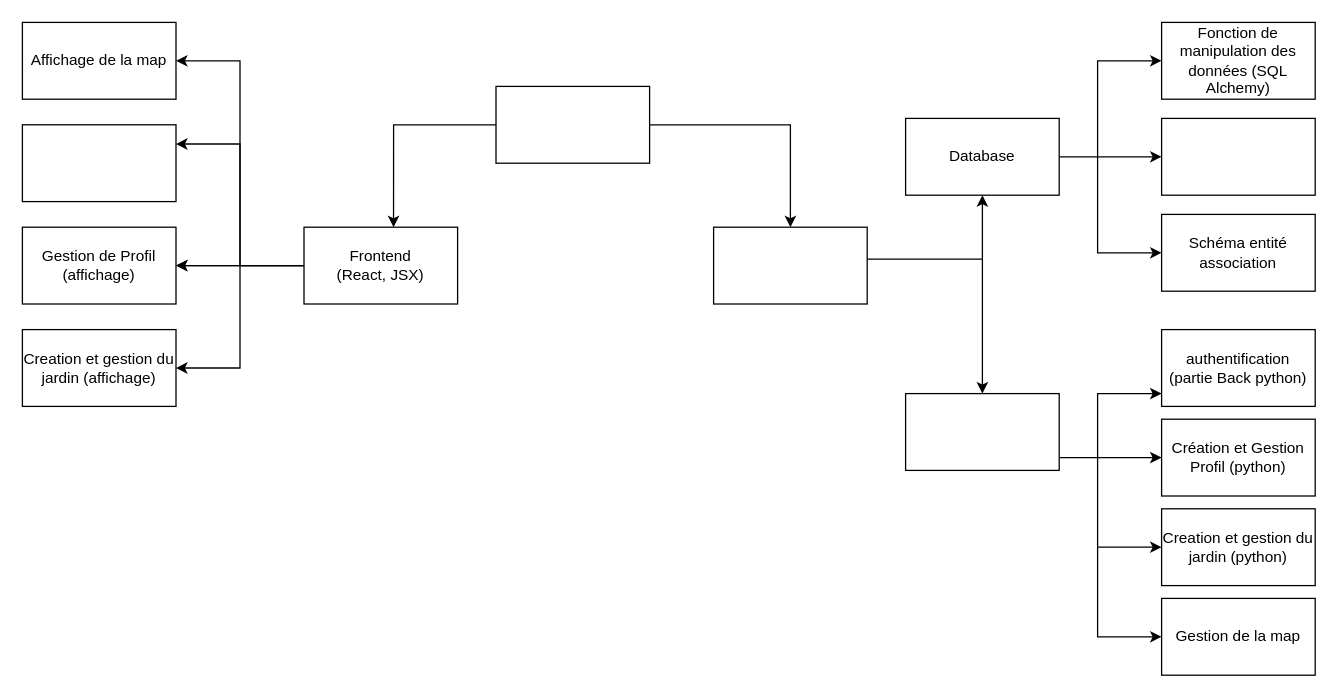
Image size: 1338x698. Some labels were removed from this diagram. The shapes that lost their labels are listed below. From the top down, each one's centre as x and y in pixels, then its label:
At point (572, 124): "Developpement de l'application".
At point (98, 163): "Authenfication (affichage)".
At point (1237, 156): "Creation de la base".
At point (789, 265): "Backend (python flask)".
At point (981, 431): "Routes (python-Flask)".
